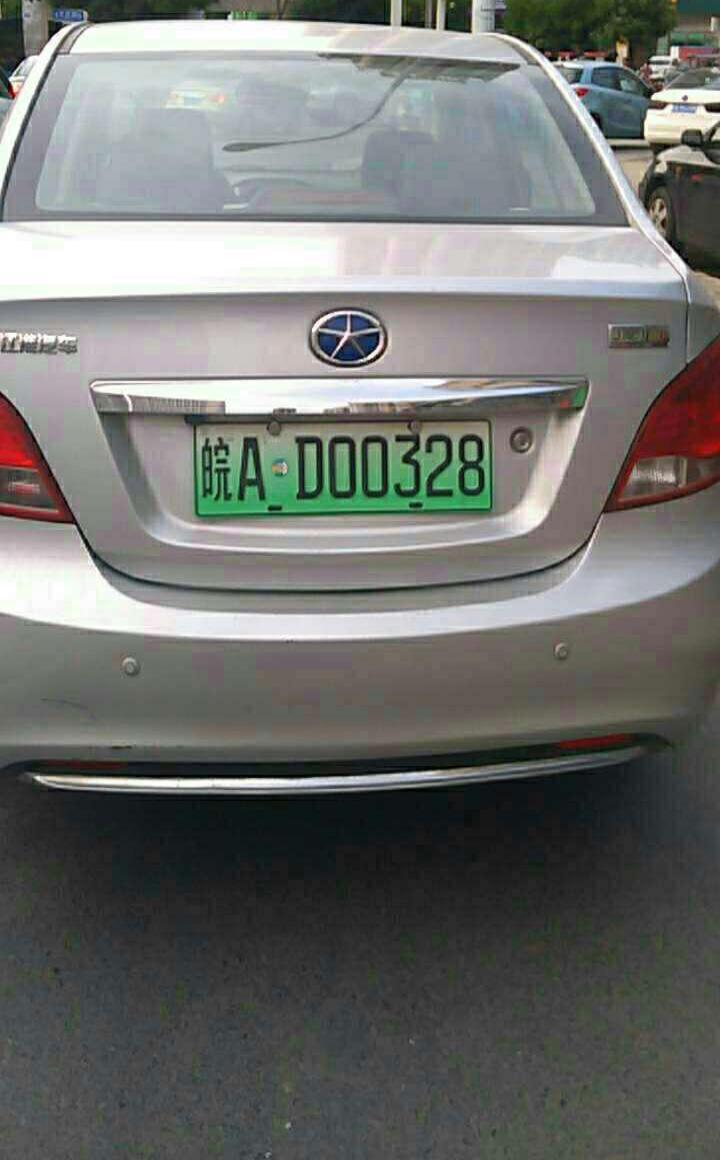car_id: (195, 419, 492, 511)
